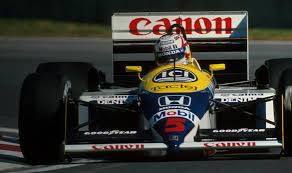FormulaOneCar: (16, 8, 292, 166)
